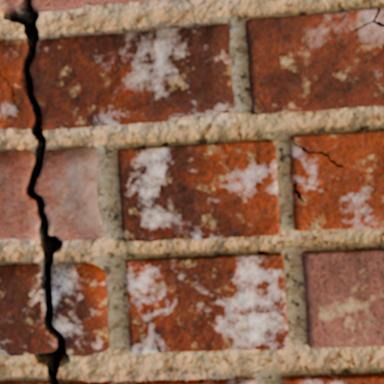brick: (126, 254, 287, 352), (118, 142, 278, 240), (246, 9, 383, 113), (290, 131, 383, 229), (303, 249, 383, 347), (281, 374, 383, 383), (378, 8, 383, 22)
broken_brick: (31, 23, 235, 130), (36, 147, 103, 241), (53, 263, 110, 356), (0, 263, 54, 356), (0, 150, 37, 241), (0, 39, 32, 130), (33, 0, 158, 12), (60, 377, 257, 383), (0, 0, 18, 11), (0, 380, 47, 383)
crack: (0, 0, 70, 383), (291, 136, 344, 168), (293, 179, 328, 204), (352, 7, 383, 32), (0, 70, 15, 104)
